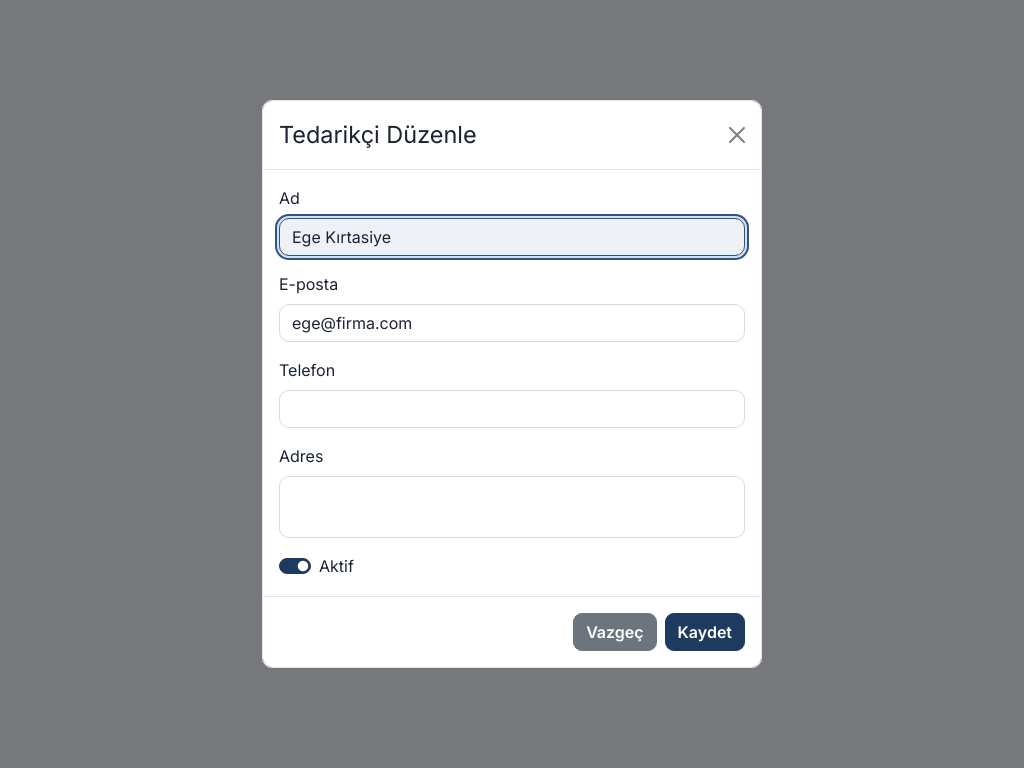
SupplierFormModal — sürüm çakışması (D10) › sürüm çakışmasında uyarı çıkıyor, ad alanı suçlanmıyor
Click the button "Kaydet": point(705, 632) [665, 613, 745, 651]
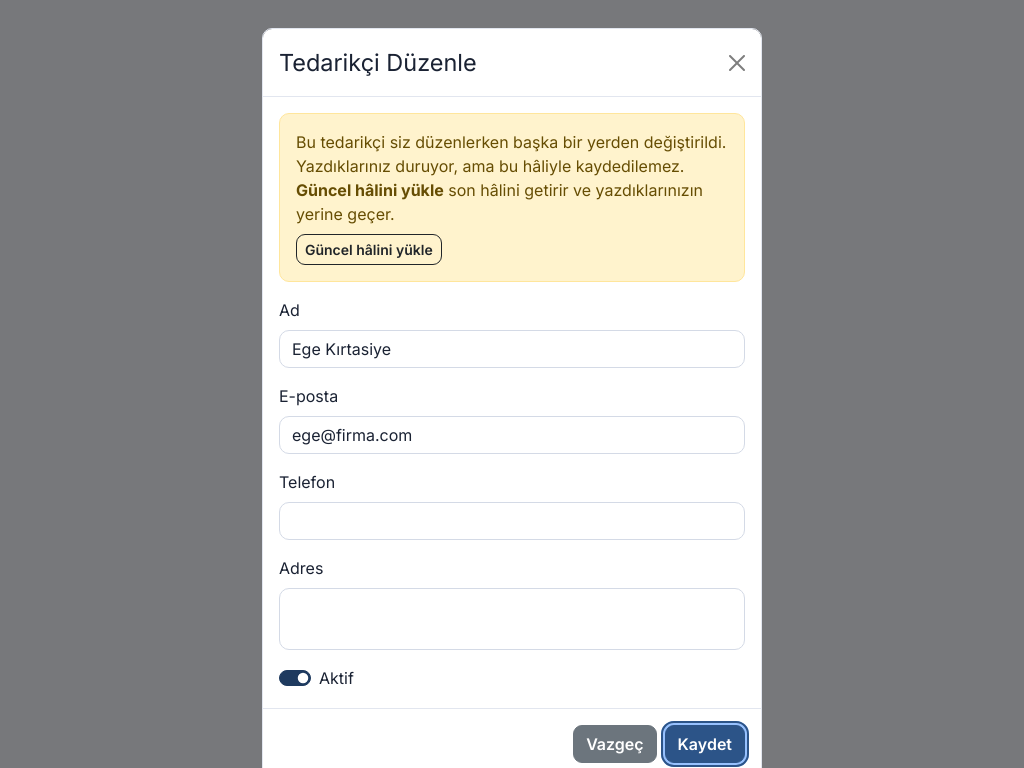
expect the text "siz düzenlerken başka bir yerden değiştirildi" is shown: met, box [296, 132, 726, 176]
